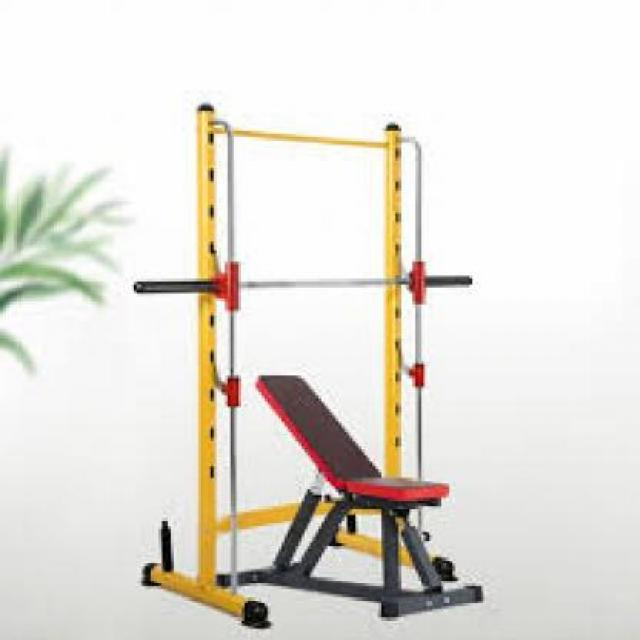smith machine: (134, 102, 486, 630)
